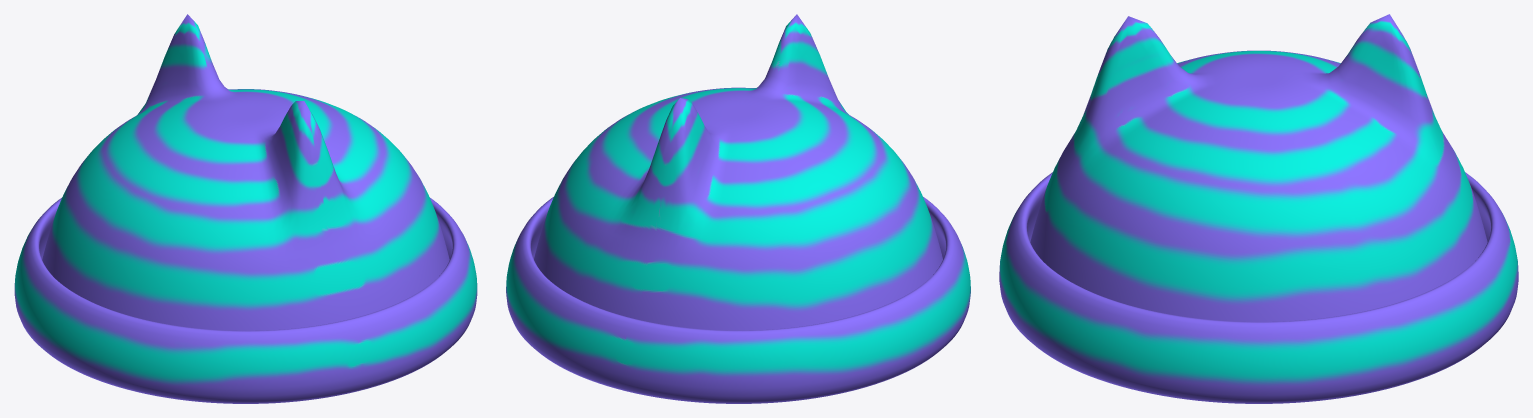
File: monad-hat.gltf
The picture shows the model from 3 angles, left to right: view 1: azimuth 30°, elevation 25°; view 2: azimuth 150°, elevation 25°; view 3: azimuth 270°, elevation 25°; orthographic projection. The views are drawn at different scales.
Visible parts, largest first — view 1: 円; view 2: 円; view 3: 円.
Part boxes in pixels (x1,y1,x2,y2): 円: (14, 14, 477, 403); 円: (506, 14, 970, 403); 円: (999, 14, 1518, 403).
Size of the model in its own units: 0.3245 by 0.1968 by 0.3245.
Materials: 1 (1 with a texture image).
